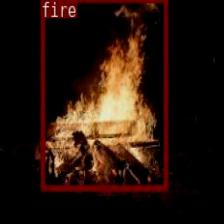fire: (40, 0, 166, 189)
